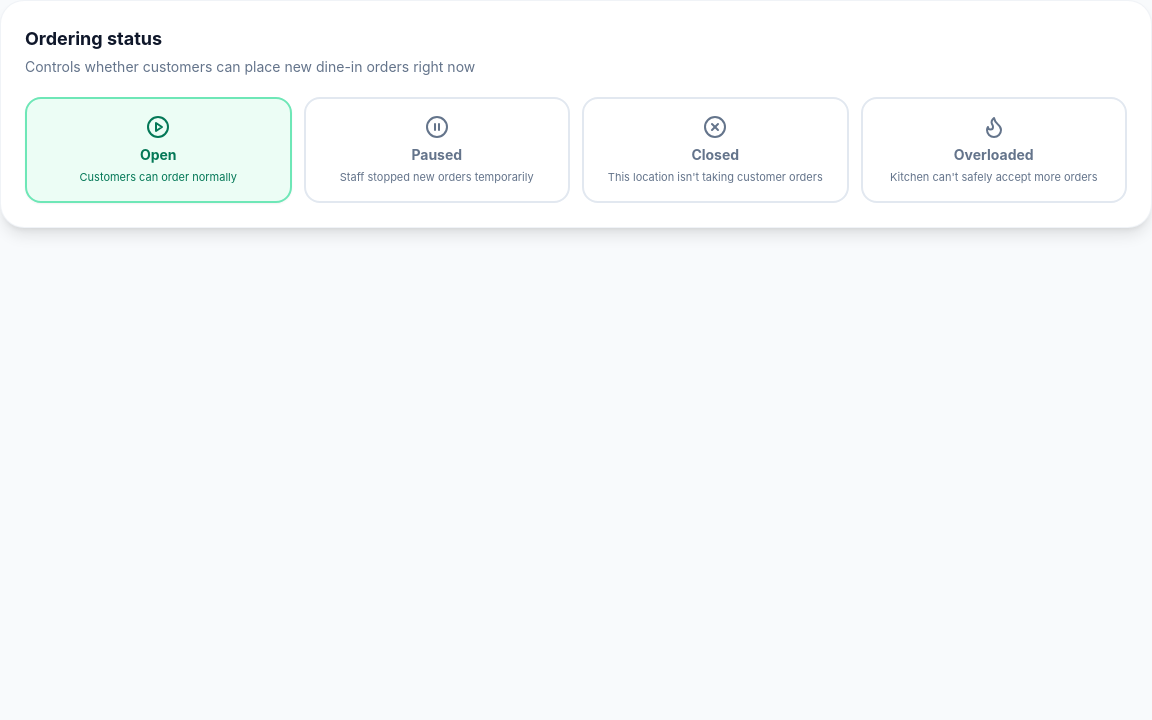
Test: OrderingStatusControl › confirms before leaving OPEN, and does nothing on cancel
Later steps or results of the test are not shown.
Click the button "Paused Staff stopped new orders temporarily". click: (437, 150)
box: [304, 97, 570, 203]
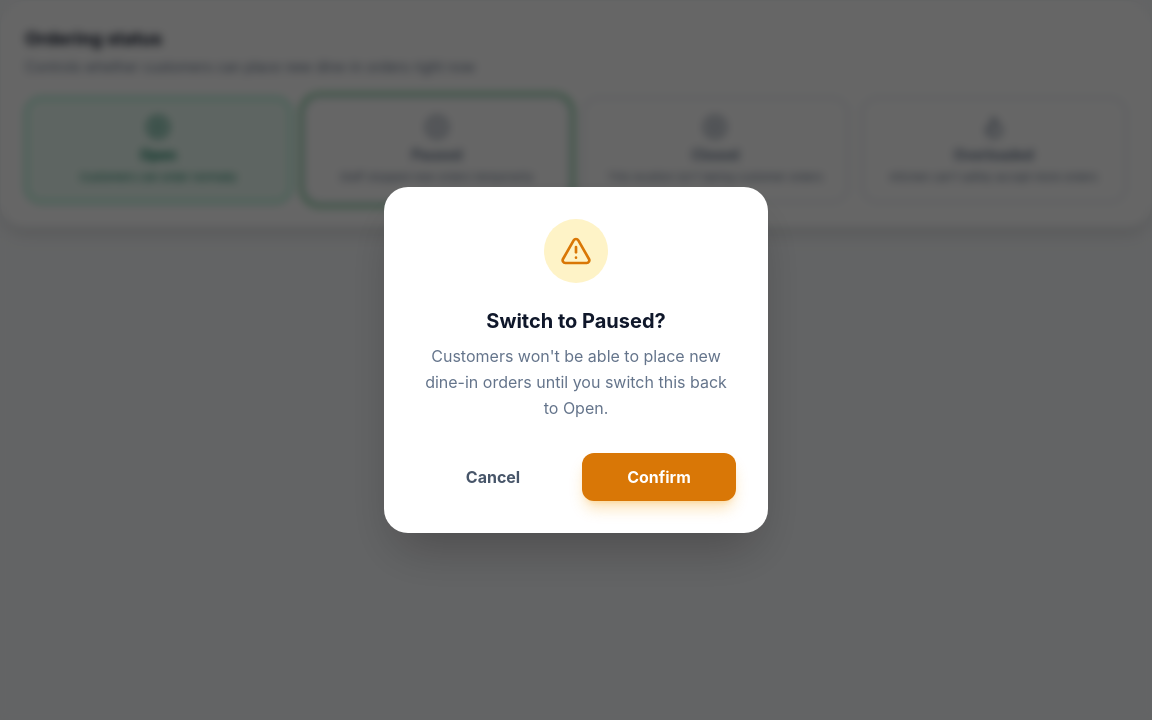
Expected: the heading "Switch to Paused?" is shown, [486, 309, 666, 333]
